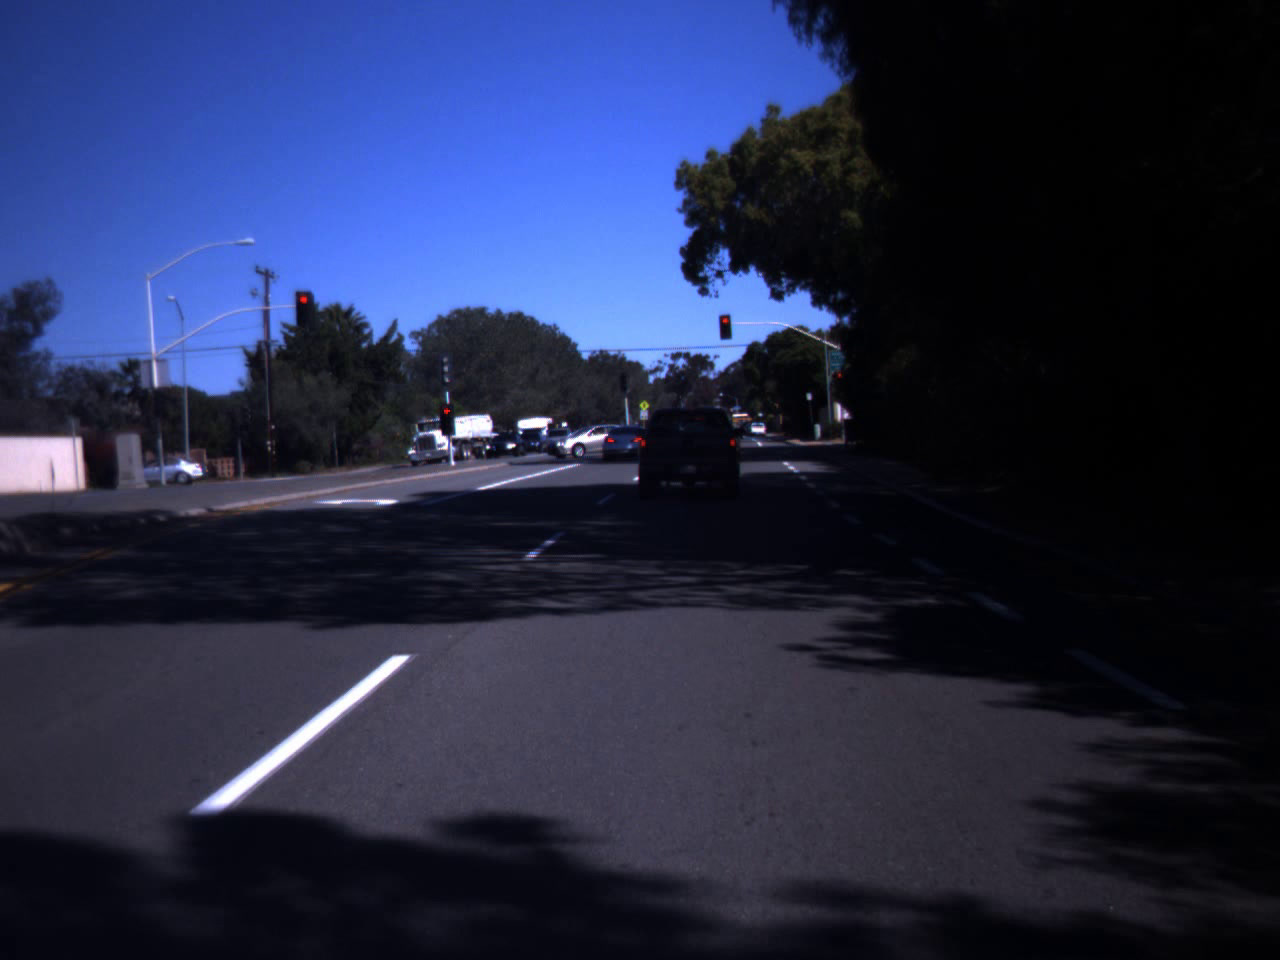stop: (438, 408, 456, 426), (834, 370, 846, 392), (296, 296, 311, 314), (720, 316, 732, 334)
